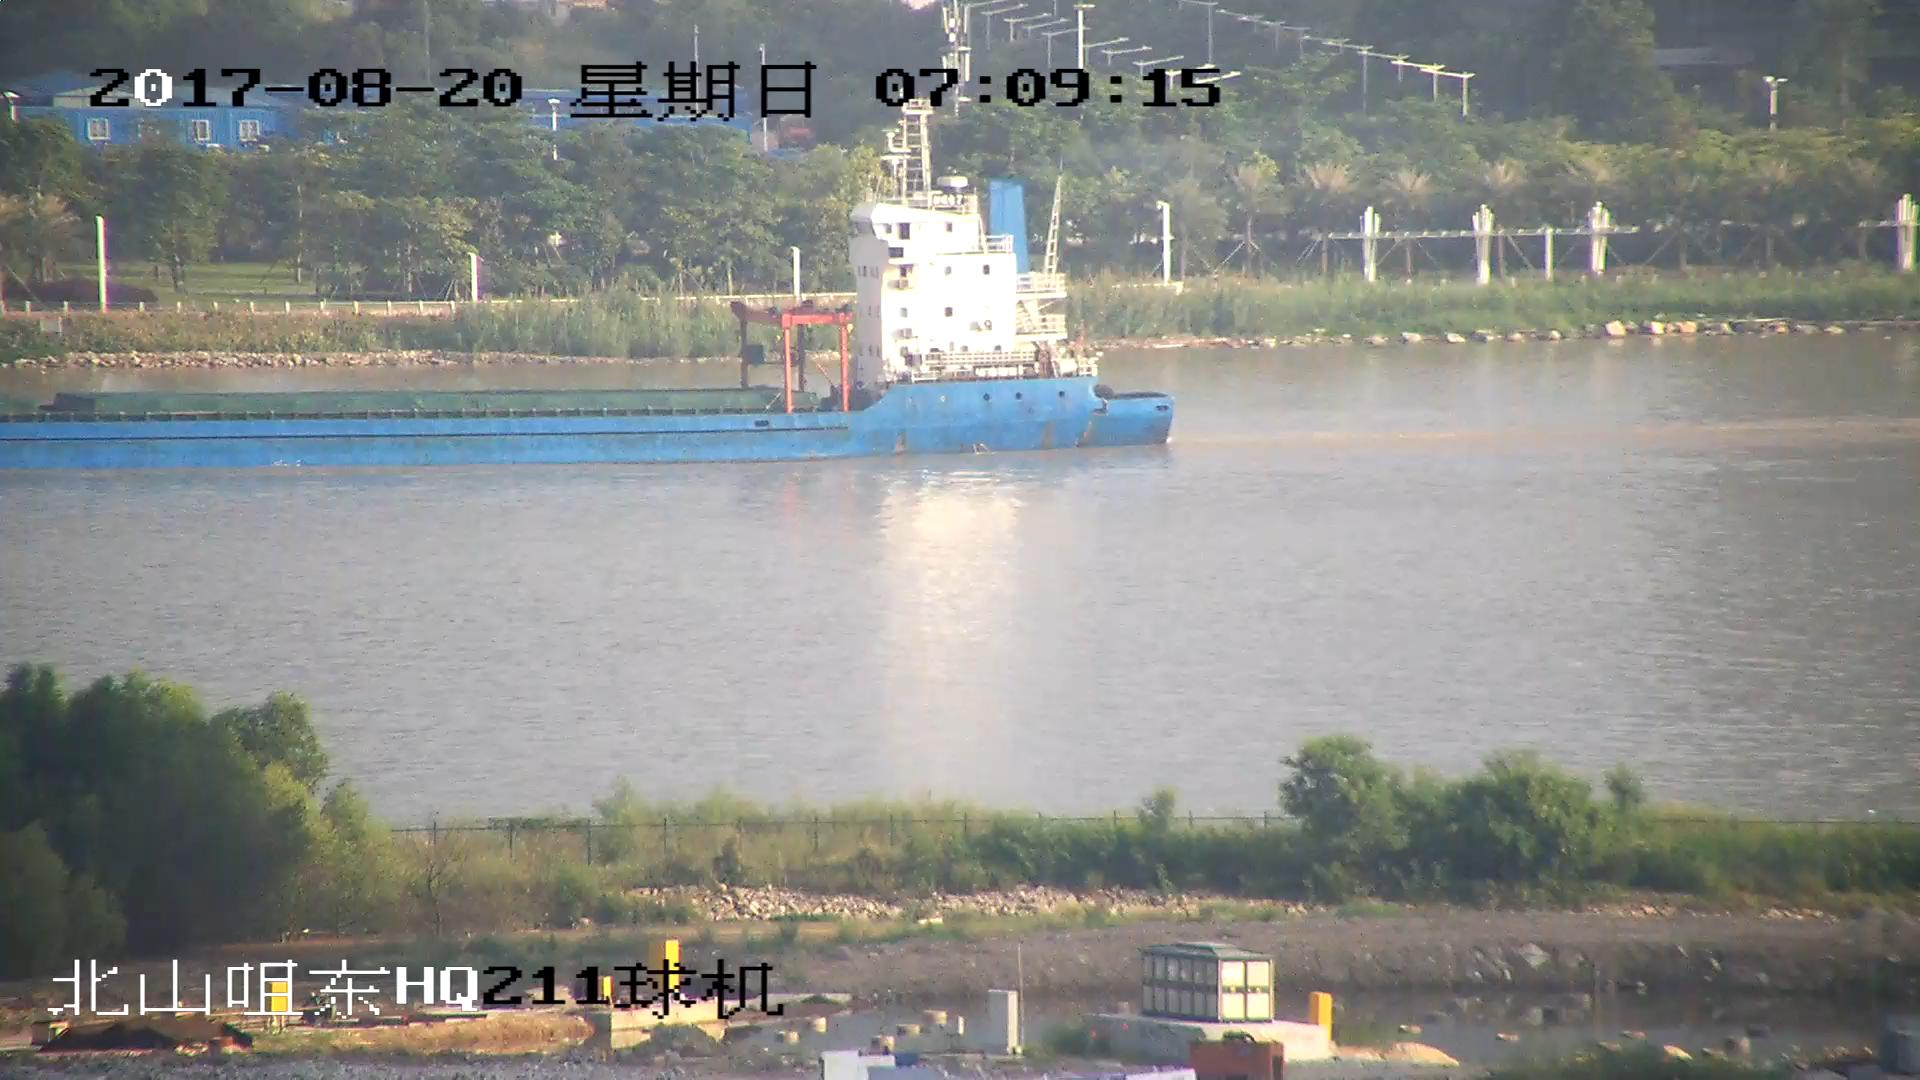general cargo ship: (1, 128, 1173, 462)
